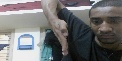hand: (47, 18, 70, 56)
